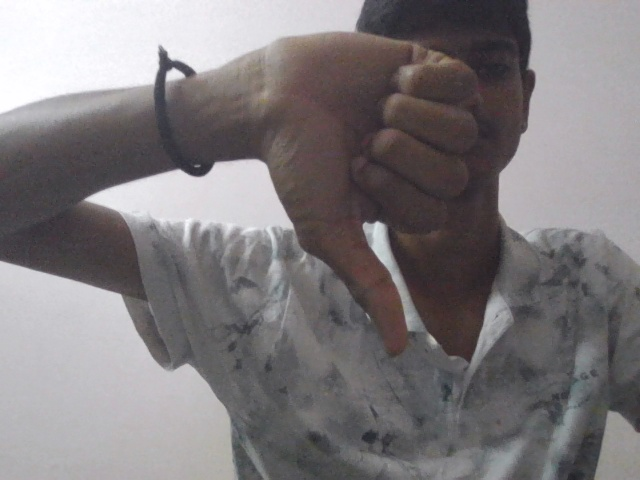no: (243, 28, 477, 360)
